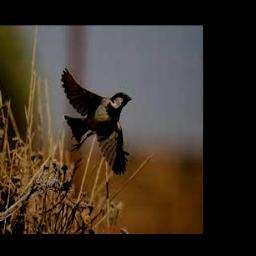Sparrow: (61, 68, 132, 174)
